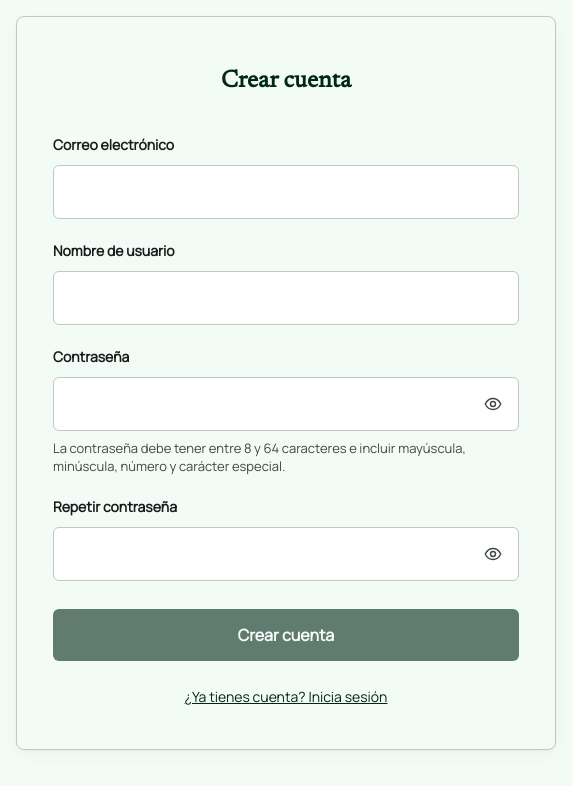
Test: Register Page - password visibility toggle › toggles repeat password field independently without affecting sibling field (C7)
This screenshot has width=573, height=786.
Type "Clave123!A" into the password field labelled "Contraseña". click: point(286, 404)
box: x1=53 y1=377 x2=519 y2=431
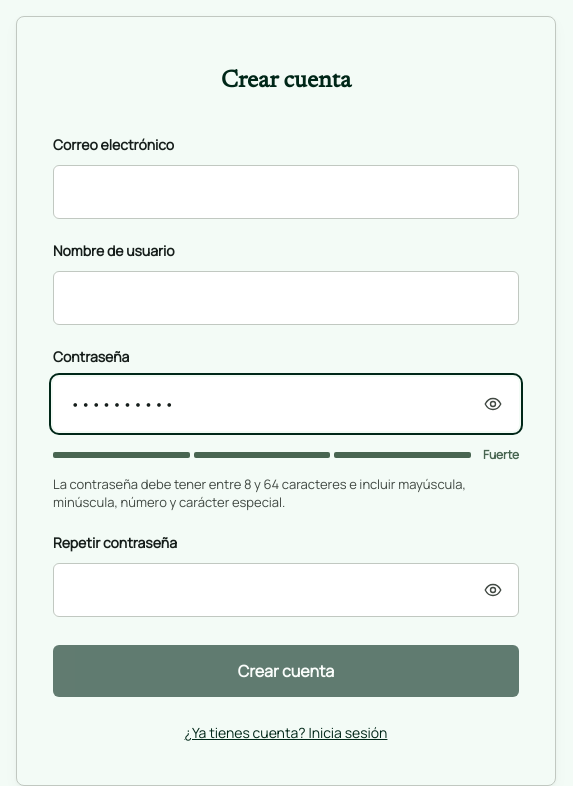
Type "Clave123!A" into the password field labelled "Repetir contraseña". click: point(286, 590)
box: x1=53 y1=563 x2=519 y2=617
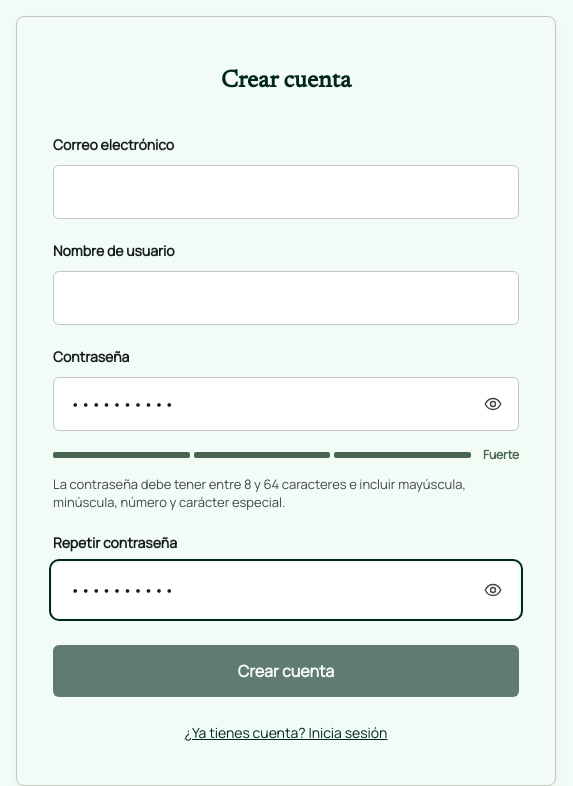
Click the 2nd button named "Mostrar contraseña". click: point(493, 590)
box: x1=479 y1=576 x2=507 y2=604
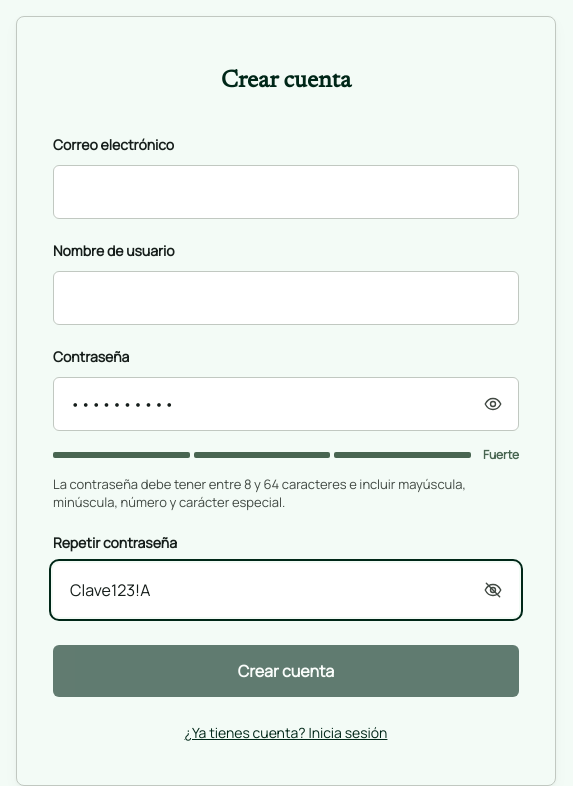
Expected: the field labelled "Repetir contraseña" shows its text, x1=53 y1=563 x2=519 y2=617
